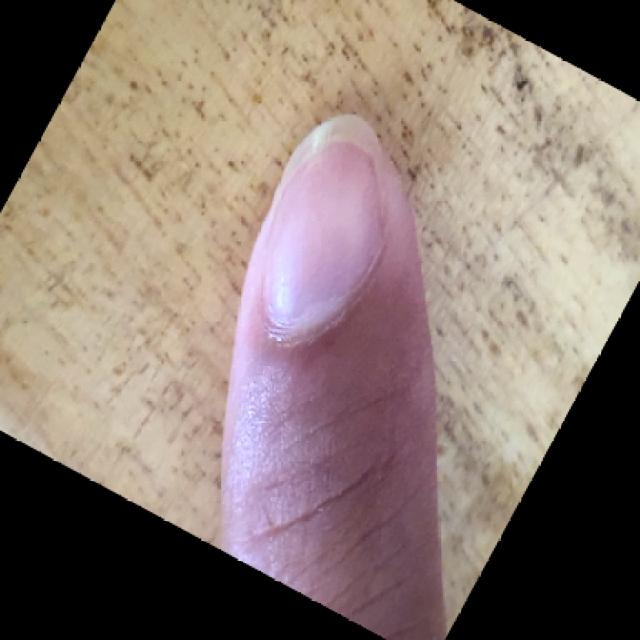Nail: (260, 117, 383, 322)
